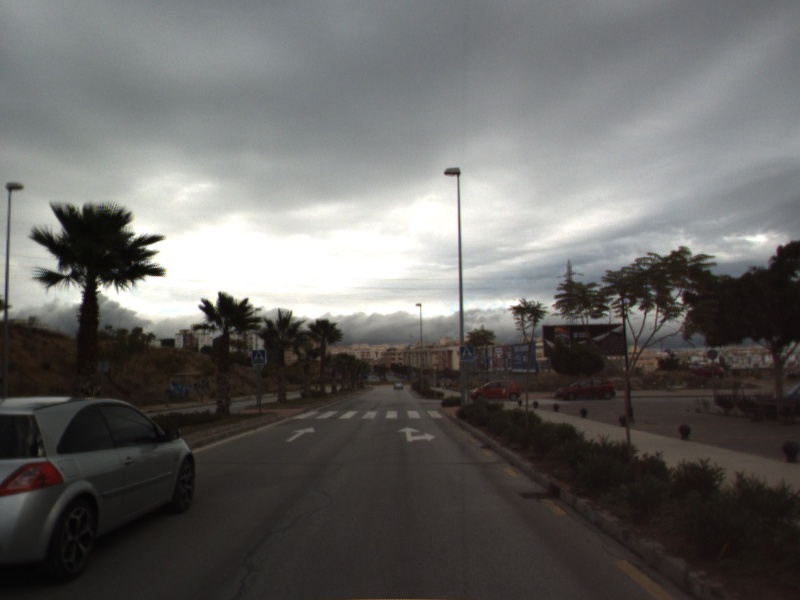STRAIGHT: (283, 424, 317, 443)
STRAIGHT_RIGHT: (396, 424, 437, 443)
